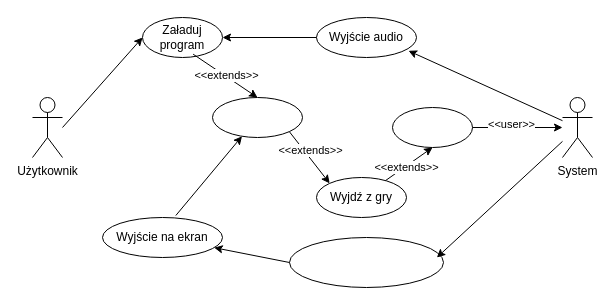
Image size: 615x305. Some labels were removed from this diagram. The shapes that lost their labels are listed below. From the top down, each one's centre as x and y in pixels, then its label:
[257,117]: Zagraj w grę
[432,127]: Rekord gry
[366,262]: przetwarzanie danych
